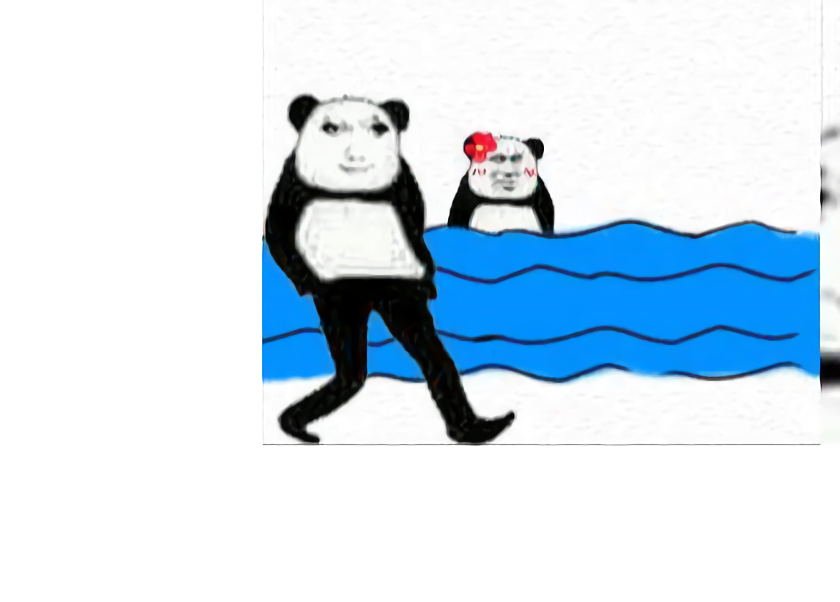dragon: (318, 115, 394, 175)
